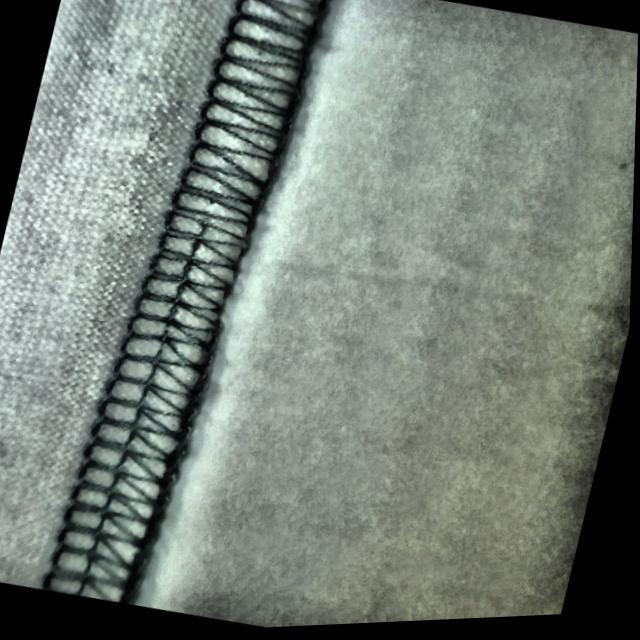Stitch: (87, 25, 313, 474)
